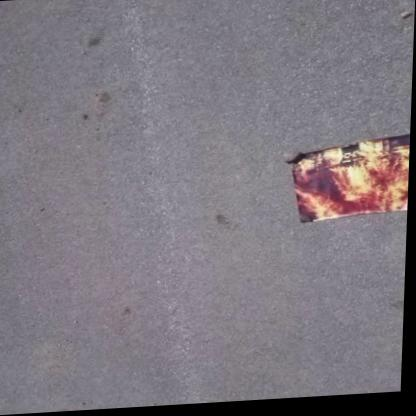fire-poster: (284, 137, 410, 228)
